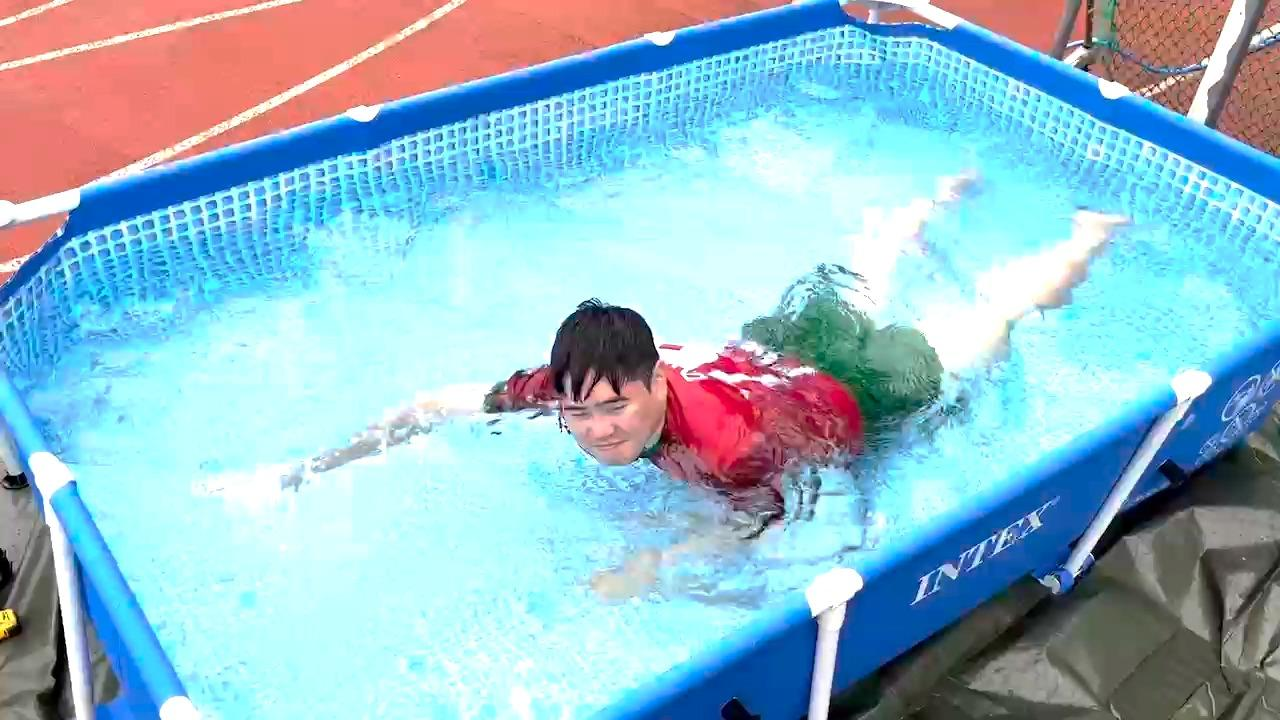Swimming: (213, 120, 1190, 605)
